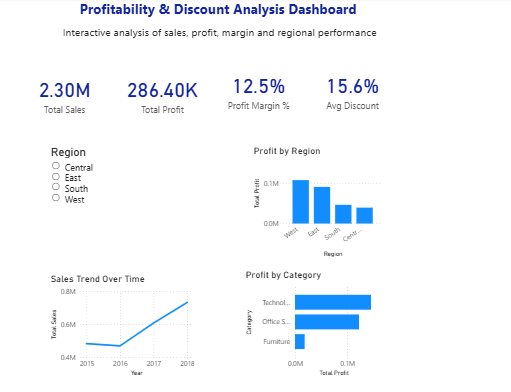

The dashboard page shown, as its layout file describes it:
{"tool":"powerbi","page":{"name":"Page 1","canvas":[1280,720],"ordinal":0},"visuals":[{"type":"card","fields":{"Values":["Orders.Total Sales"]},"box":[55.3,109,177.8,127],"z":0},{"type":"card","fields":{"Values":["Orders.Total Profit"]},"box":[233,109,173.3,127],"z":1000},{"type":"card","fields":{"Values":["Orders.Profit Margin %"]},"box":[406.3,109,170.3,115],"z":2000},{"type":"card","fields":{"Values":["Orders.Avg Discount"]},"box":[576.6,109,162.8,115],"z":3000},{"type":"clusteredBarChart","title":"Profit by Category","fields":{"Category":["Orders.Category"],"Y":["Orders.Total Profit"]},"box":[463,486.3,252.1,196.6],"z":4000},{"type":"clusteredColumnChart","title":"Profit by Region","fields":{"Category":["Orders.Region"],"Y":["Orders.Total Profit"]},"box":[477,264.9,239.2,205.4],"z":5000},{"type":"lineChart","title":"Sales Trend Over Time","fields":{"Category":["Orders.Order Date.Variation.Date Hierarchy.Year","Orders.Order Date.Variation.Date Hierarchy.Quarter","Orders.Order Date.Variation.Date Hierarchy.Month","Orders.Order Date.Variation.Date Hierarchy.Day"],"Y":["Orders.Total Sales"]},"box":[115,493.3,266.7,190],"z":6000},{"type":"listSlicer","fields":{"Values":["Orders.Region"]},"box":[114.4,264.6,237.8,189.5],"z":7000},{"type":"textbox","box":[166.2,0,508.1,44.6],"z":8000},{"type":"textbox","box":[131.5,44.8,578.1,64.2],"z":9000}]}

Visuals, with their boxes in screenshot pixels (x1, y1, x2, y2):
card - Orders.Total Sales: x1=42, y1=33, x2=110, y2=82
card - Orders.Total Profit: x1=110, y1=33, x2=176, y2=82
card - Orders.Profit Margin %: x1=176, y1=33, x2=240, y2=77
card - Orders.Avg Discount: x1=240, y1=33, x2=302, y2=77
"Profit by Category" clusteredBarChart: x1=197, y1=177, x2=293, y2=251
"Profit by Region" clusteredColumnChart: x1=202, y1=93, x2=293, y2=171
"Sales Trend Over Time" lineChart: x1=65, y1=179, x2=166, y2=251
listSlicer - Orders.Region: x1=65, y1=92, x2=155, y2=164
textbox: x1=84, y1=0, x2=277, y2=9
textbox: x1=71, y1=9, x2=291, y2=33
